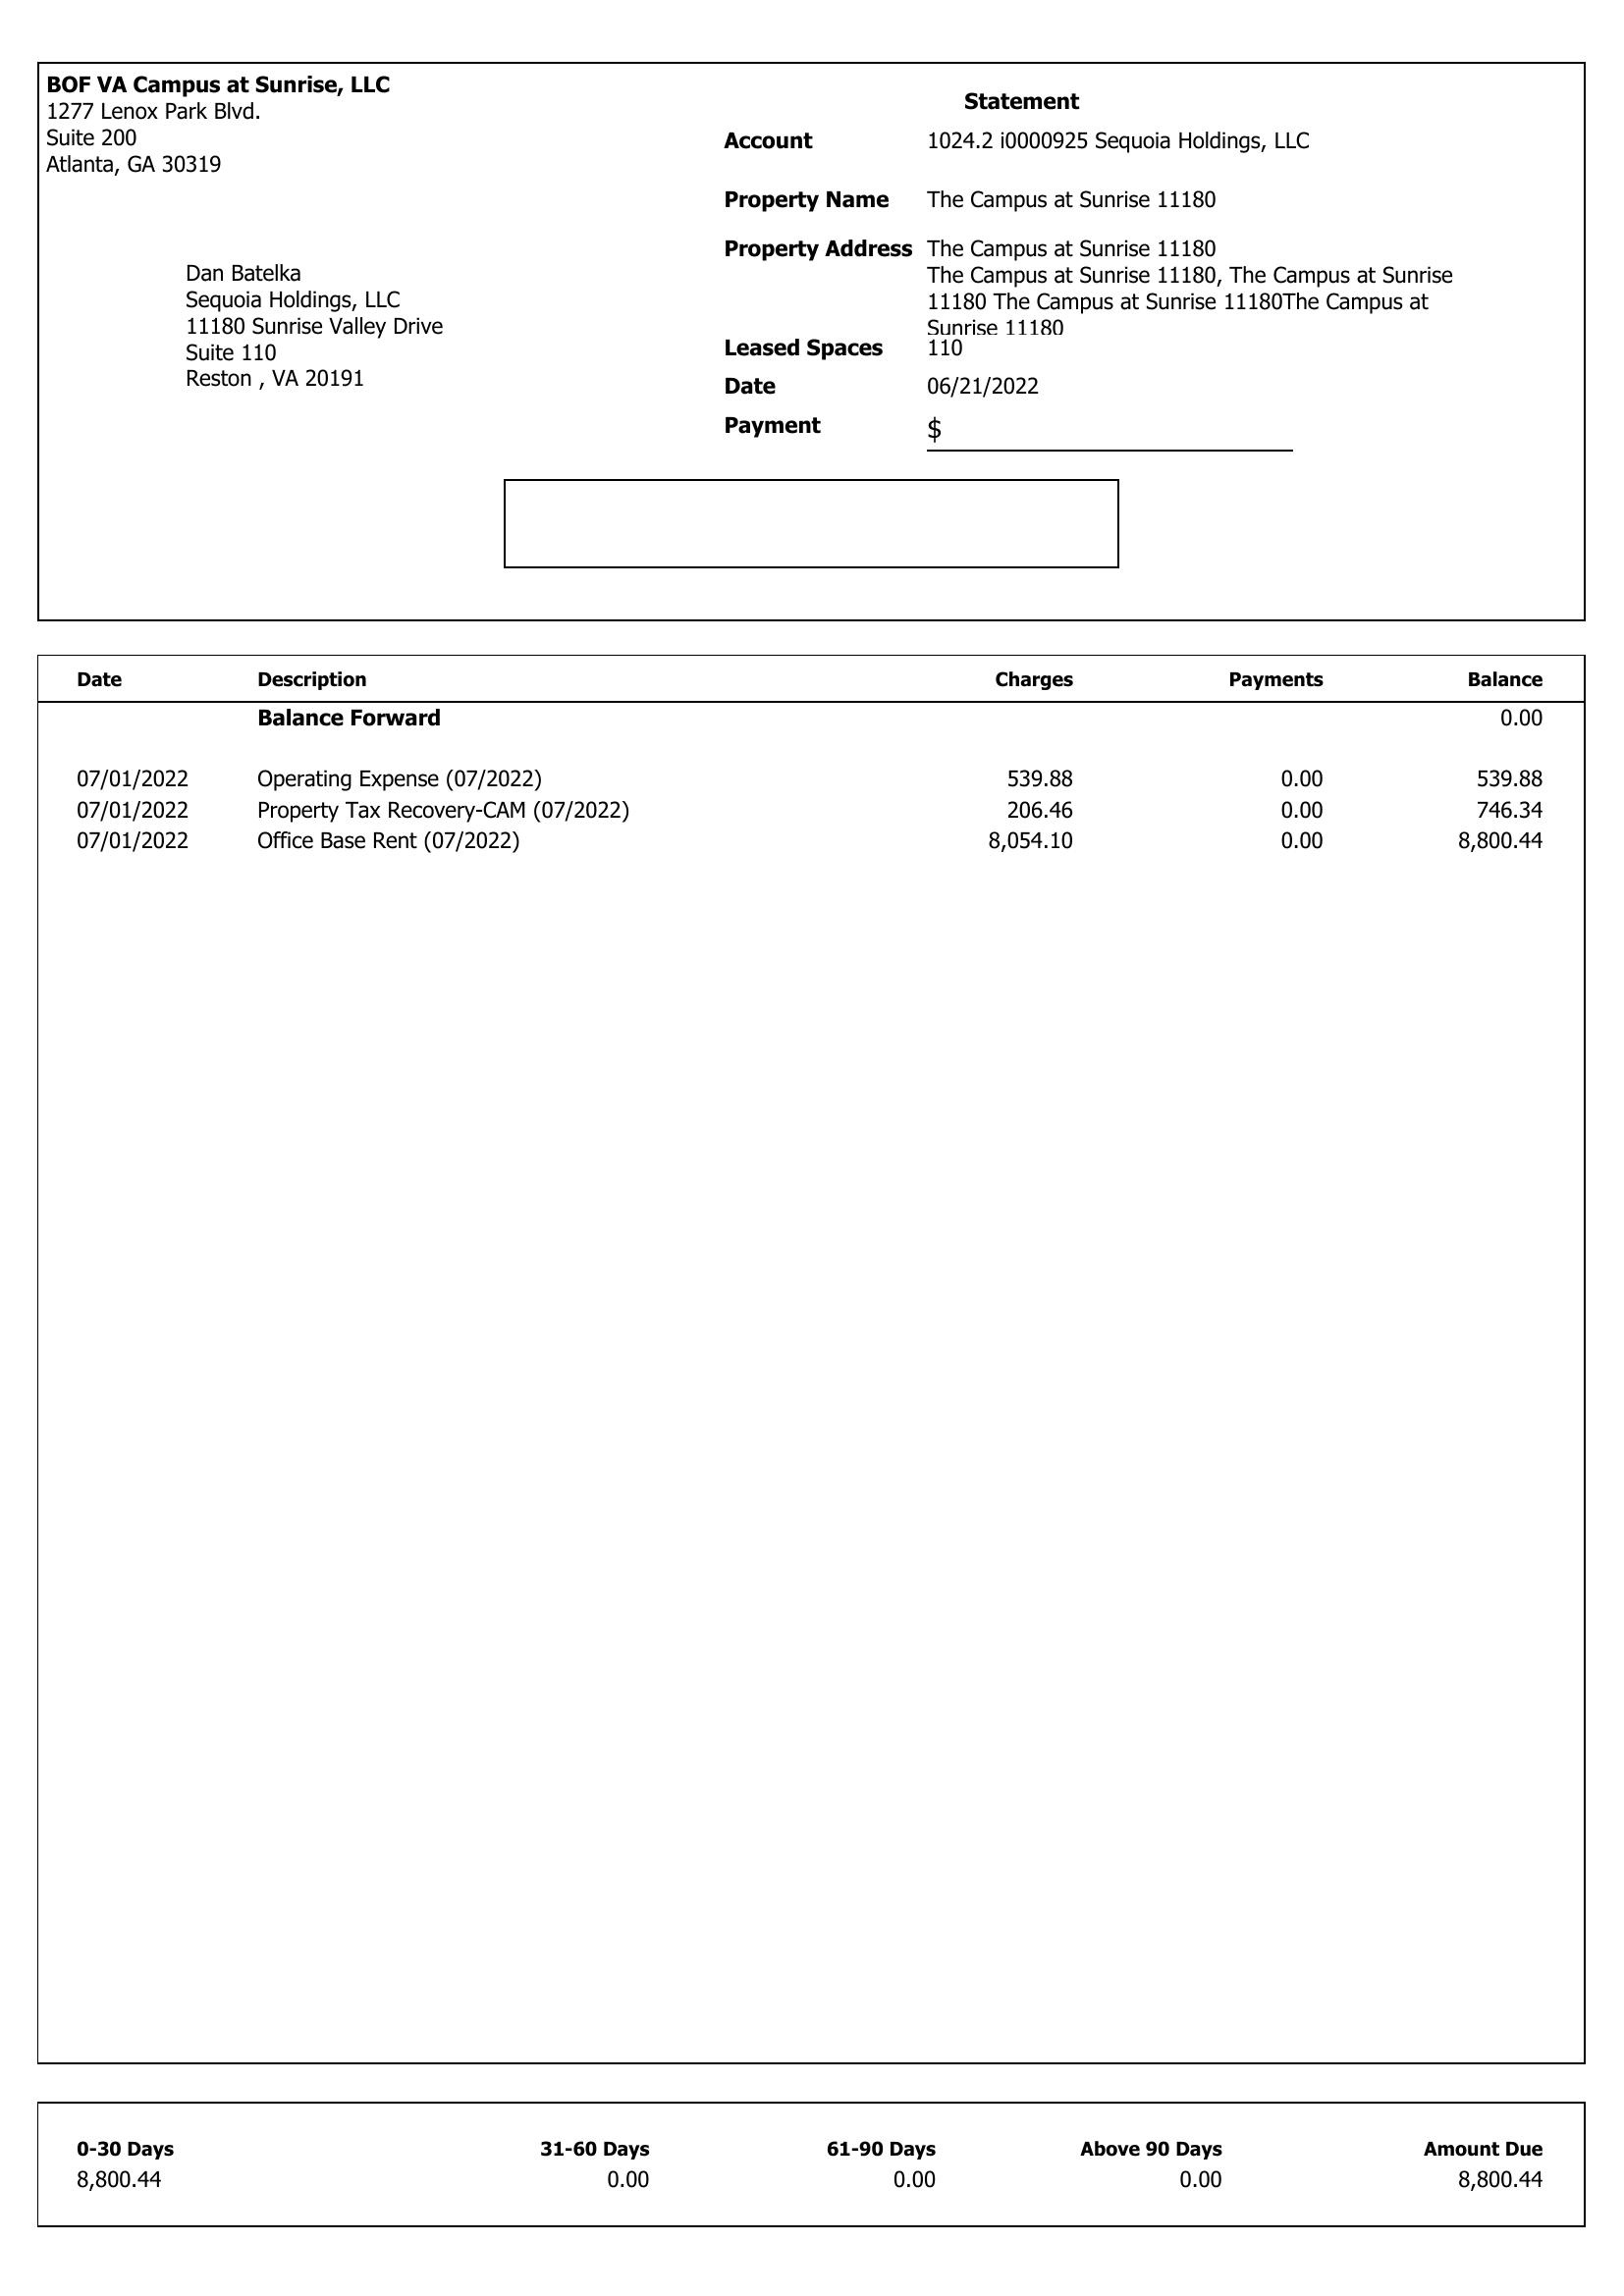0 table: (30, 641, 1591, 1021)
